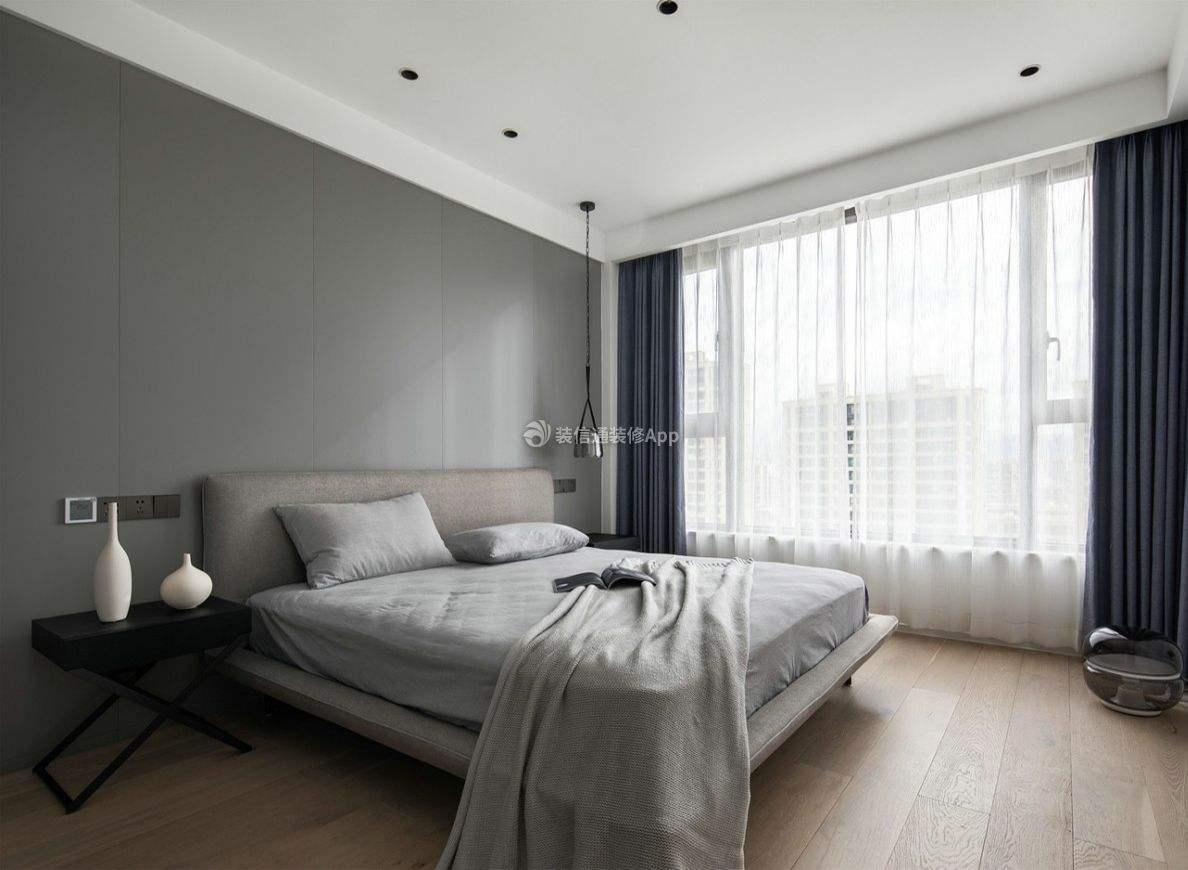床: (247, 548, 867, 822)
枕头: (269, 497, 447, 585), (448, 518, 599, 566)
灯: (571, 195, 606, 466), (390, 65, 420, 88), (498, 120, 523, 147), (1012, 60, 1044, 79), (649, 2, 681, 19)
